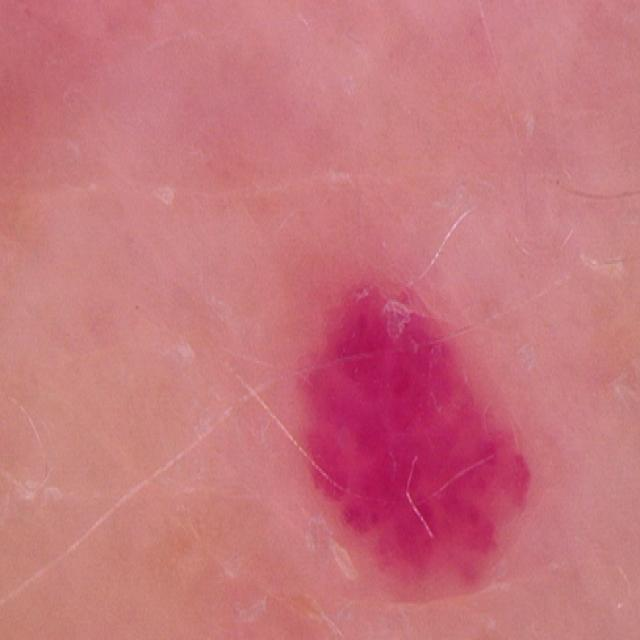Vascular Lesions: (298, 212, 537, 640)
